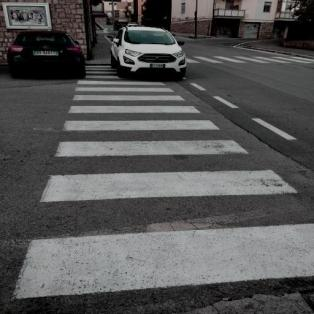Paso de Cebra: (37, 135, 304, 208), (62, 93, 204, 117)
